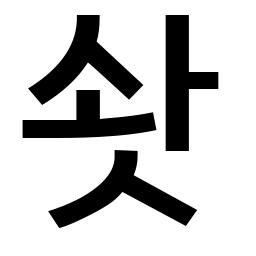Bbichim: (38, 198, 81, 236), (21, 77, 62, 114)
Buri: (158, 9, 201, 37)
Gaji: (159, 59, 201, 103)
